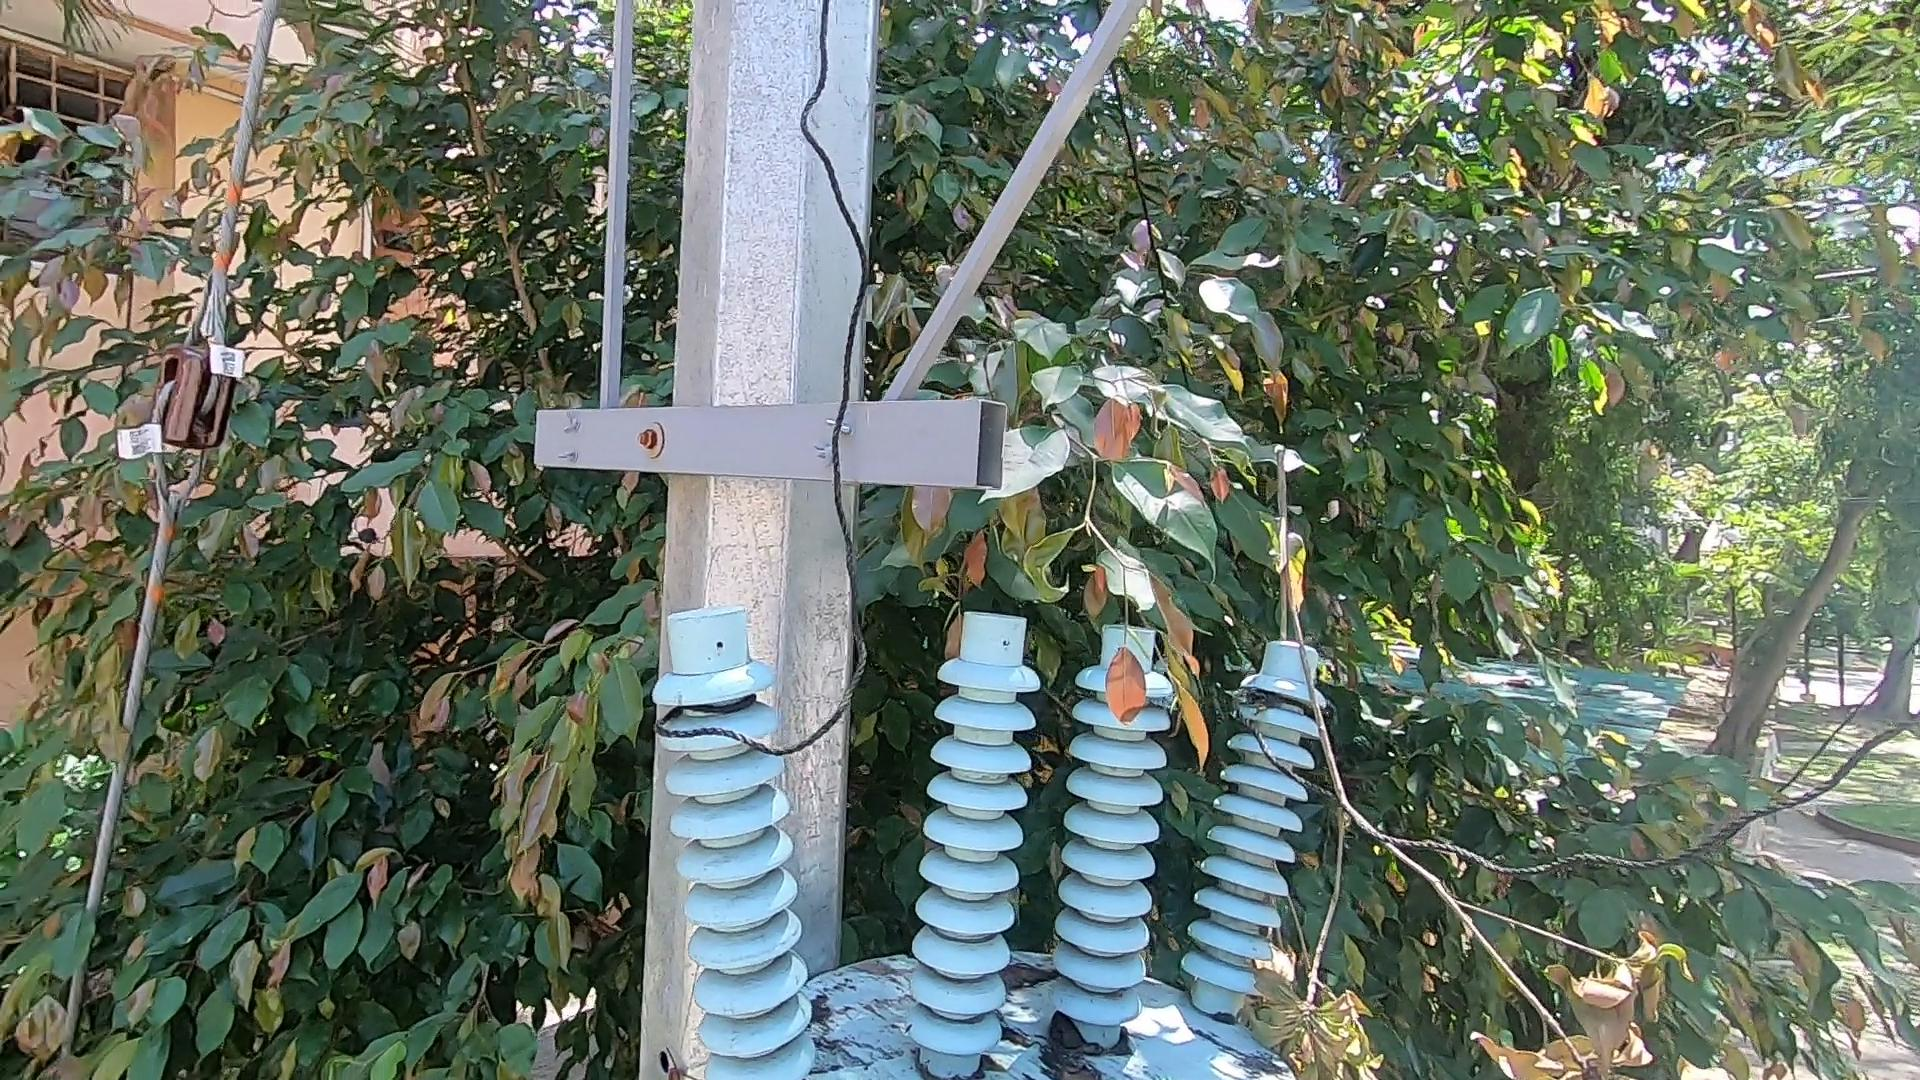branch with leaves: (1238, 390, 1677, 1080)
leaf: (1048, 1013, 1102, 1058), (1112, 1031, 1155, 1058)
